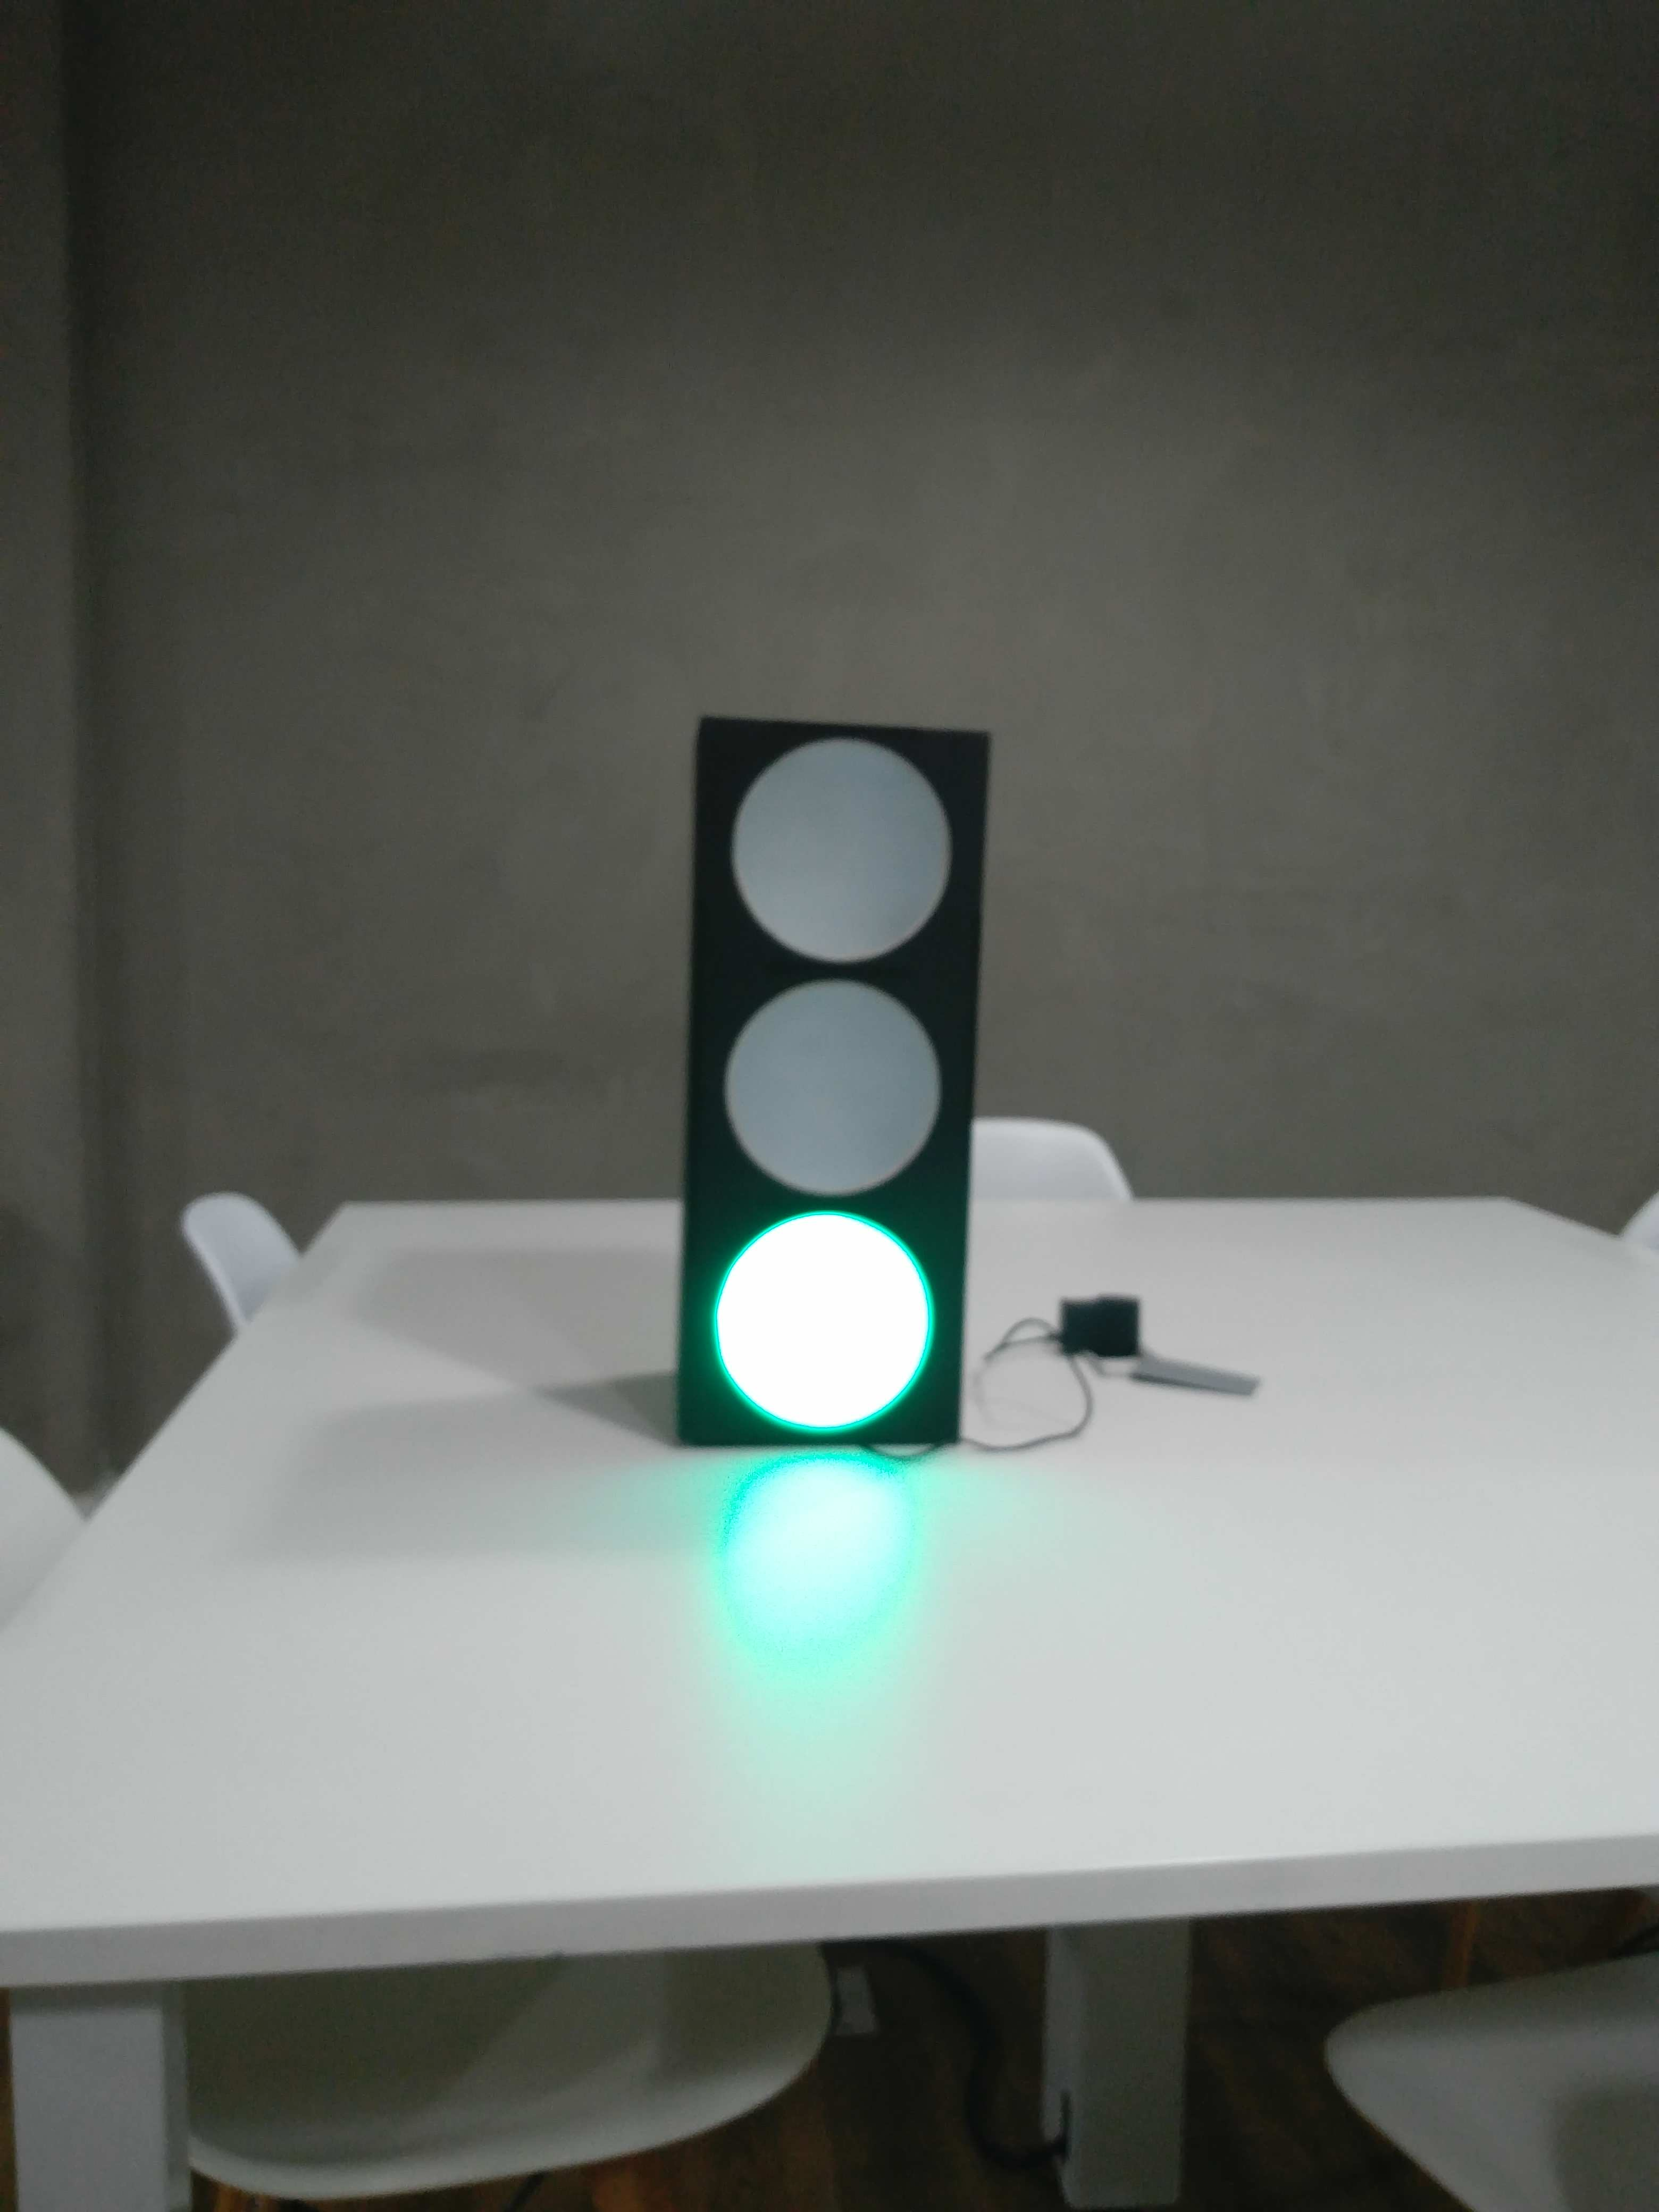go: (673, 718, 995, 1456)
